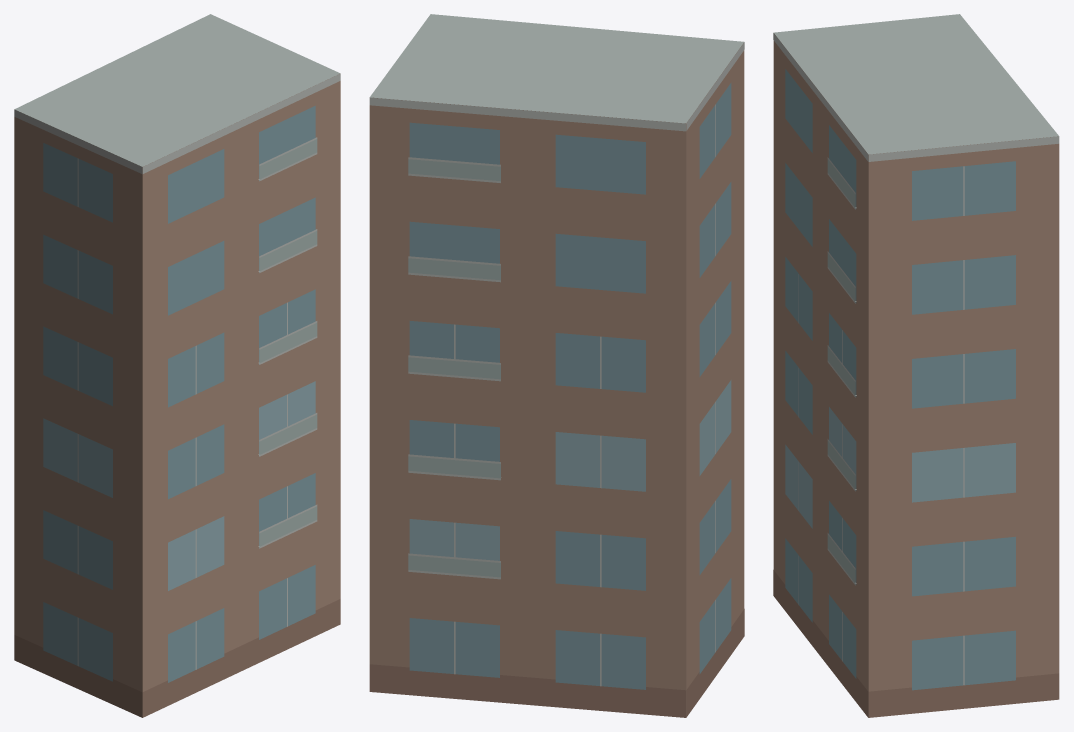
File: survey-upis-32748330.glb
The picture shows the model from 3 angles, left to right: view 1: azimuth 30°, elevation 25°; view 2: azimuth 150°, elevation 25°; view 3: azimuth 270°, elevation 25°; orthographic projection. The views are drawn at different scales.
Visible parts, largest first — view 1: survey-upis-32748330.tmp; view 2: survey-upis-32748330.tmp; view 3: survey-upis-32748330.tmp.
Boxes of the visible parts, x1,y1,x2,y2 form: survey-upis-32748330.tmp: (14, 14, 340, 717); survey-upis-32748330.tmp: (369, 14, 744, 717); survey-upis-32748330.tmp: (773, 14, 1059, 717).
Size of the model in its own units: 9.8 by 18.3 by 8.42.
